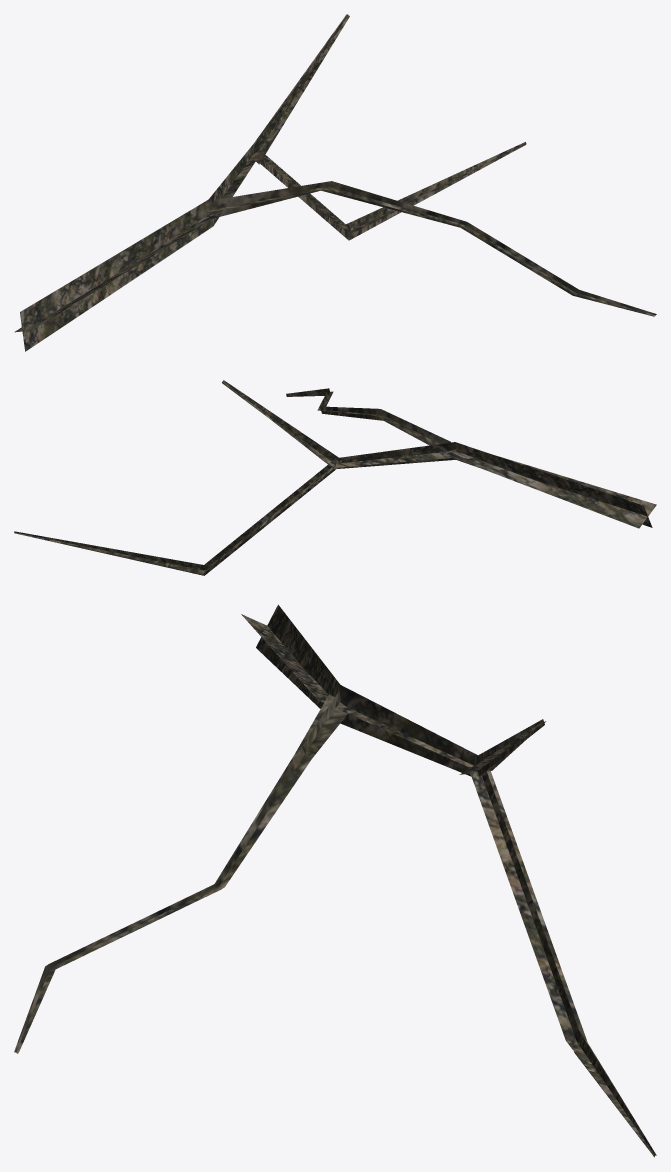
Rendered from INST_EKH_BRANCHA.fbx.
The picture shows the model from 3 angles, top to bottom: view 1: azimuth 30°, elevation 25°; view 2: azimuth 150°, elevation 25°; view 3: azimuth 270°, elevation 25°; orthographic projection. The views are drawn at different scales.
Parts seen in each view (by area): view 1: INST_EKH_BRANCHA; view 2: INST_EKH_BRANCHA; view 3: INST_EKH_BRANCHA.
Boxes of the visible parts, box(x1,y1,x2,y2) form: INST_EKH_BRANCHA: box(14, 14, 656, 351); INST_EKH_BRANCHA: box(14, 380, 656, 575); INST_EKH_BRANCHA: box(14, 604, 656, 1157).
Size of the model in its own units: 28387 by 9978 by 17875.
Materials: 1 (1 with a texture image).
